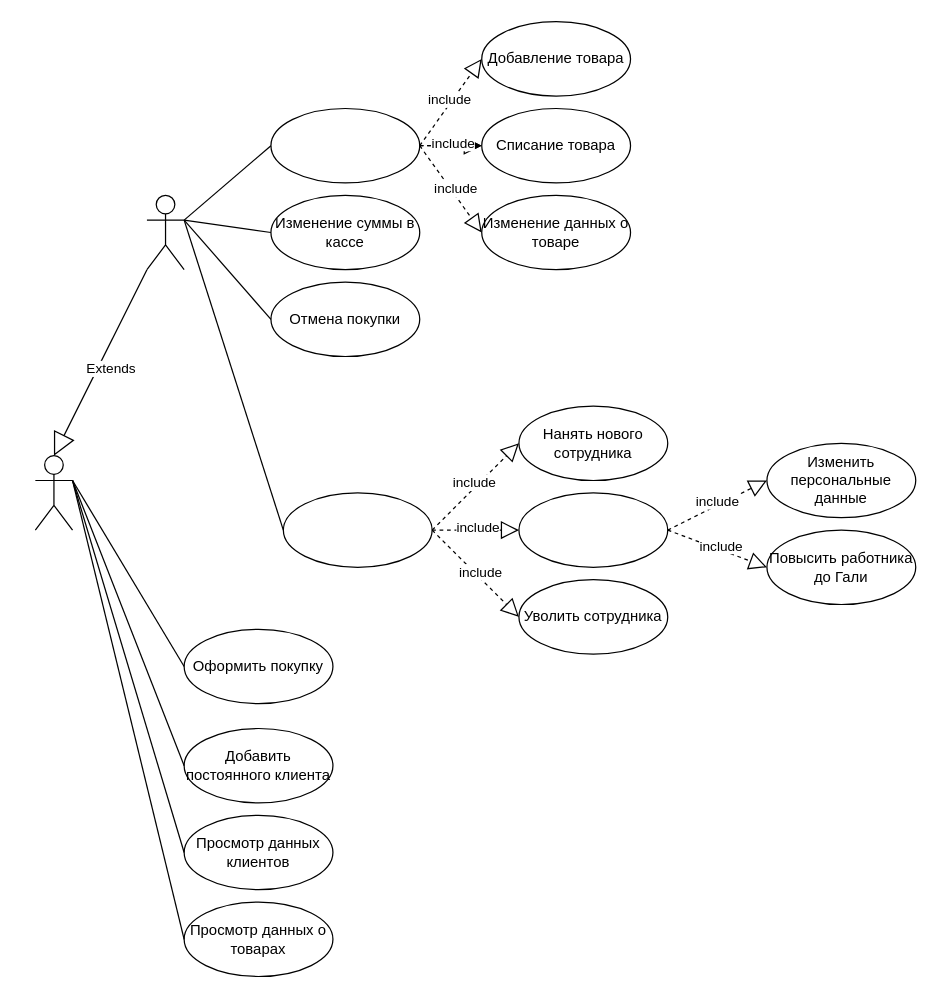
The diagram is 937 pixels wide and 998 high, and some of its shapes have lost their labels. The shapes that lost their labels are listed below. From the top down, each one's box as (x1, y1, x2, y2) in pixels, then its label:
(270, 107, 420, 183): Менеджмент товаров
(146, 194, 184, 270): Галя
(34, 454, 73, 530): Работник
(282, 492, 432, 567): Контроль персонала
(518, 492, 668, 567): Изменить данные сотрудника
